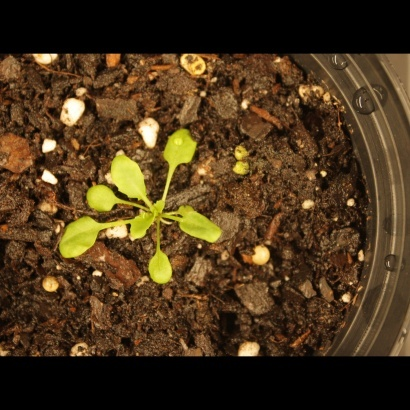leaf: (157, 119, 203, 175), (107, 150, 153, 204), (57, 216, 104, 260), (141, 242, 180, 291), (178, 212, 223, 245), (81, 182, 118, 216), (126, 206, 158, 243), (176, 198, 199, 221)
